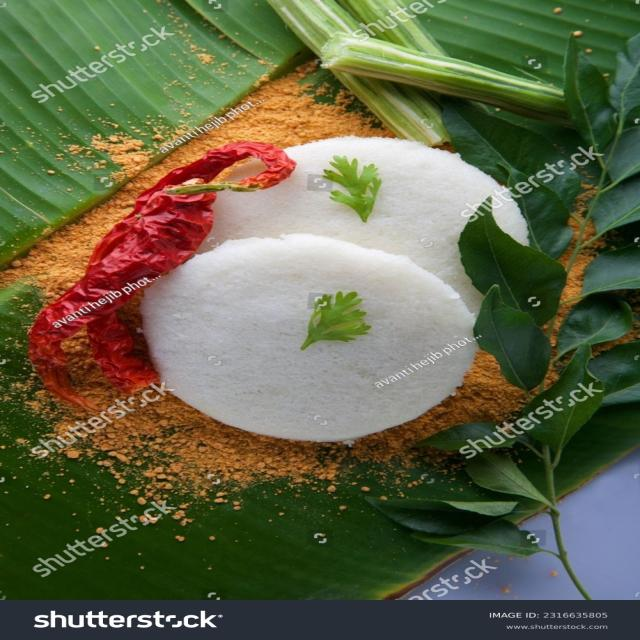IDLI: (141, 234, 476, 441), (197, 136, 527, 312)
